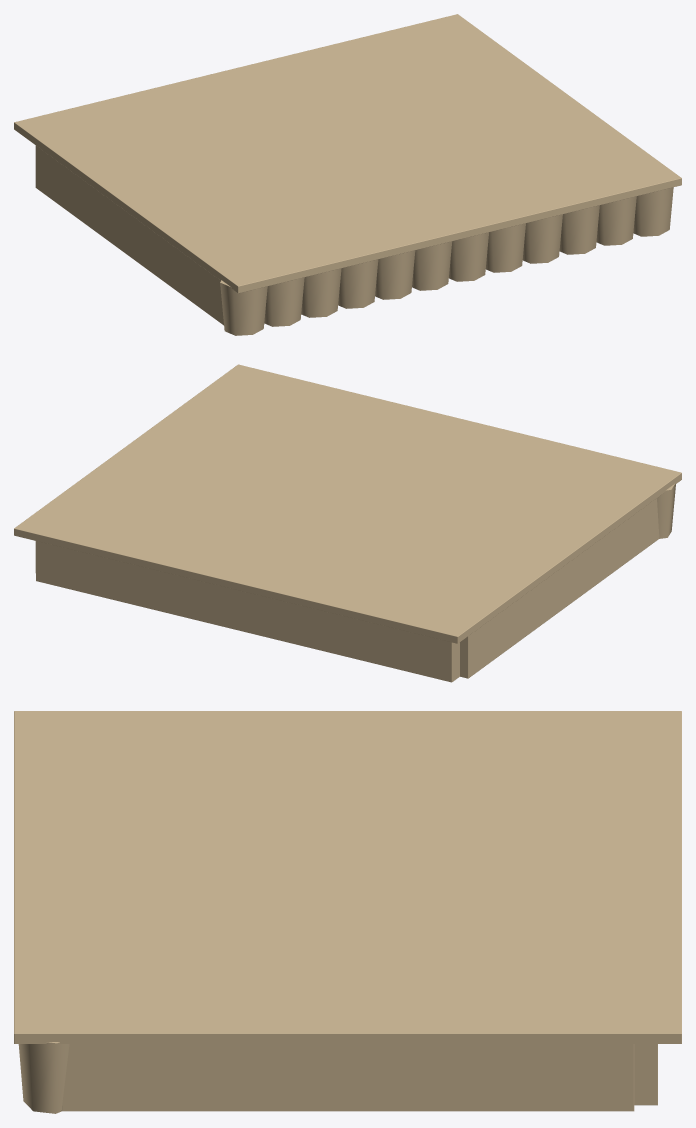
The model's file is griffin-airmail-roost-and-posthouse-posthouse-cliff-ba-dab769ef__30542.glb.
3 renders of one model, top to bottom at view 1: azimuth 30°, elevation 25°; view 2: azimuth 150°, elevation 25°; view 3: azimuth 270°, elevation 25°, orthographic. The views are drawn at different scales.
Visible parts, largest first — view 1: posthouse-cliff-base; view 2: posthouse-cliff-base; view 3: posthouse-cliff-base.
Boxes of the visible parts, <box> form: posthouse-cliff-base: <box>14,14,681,335</box>; posthouse-cliff-base: <box>14,364,681,682</box>; posthouse-cliff-base: <box>14,711,681,1113</box>.
Bounding box in the file's own units: 16.19 × 1.9 × 14.
